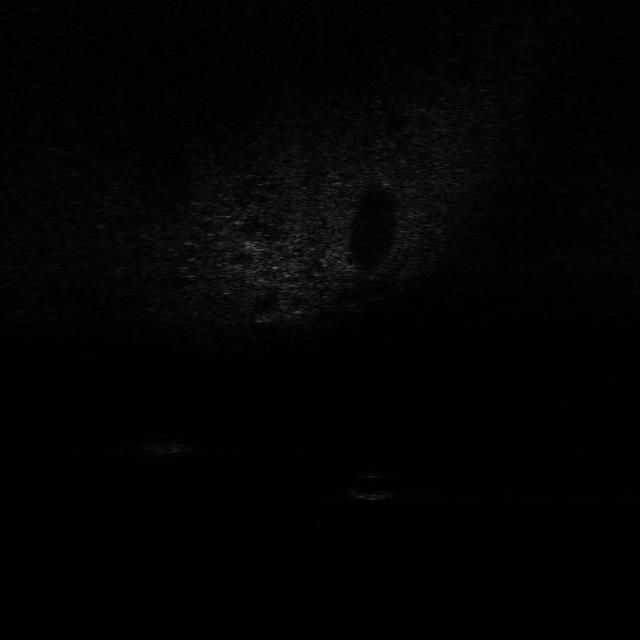ball: (347, 466, 403, 506)
circle cage: (136, 429, 196, 465)
